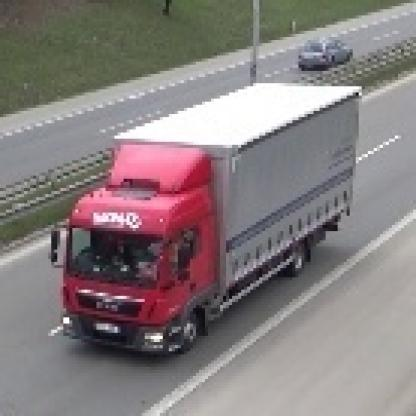truck: (46, 78, 360, 355)
